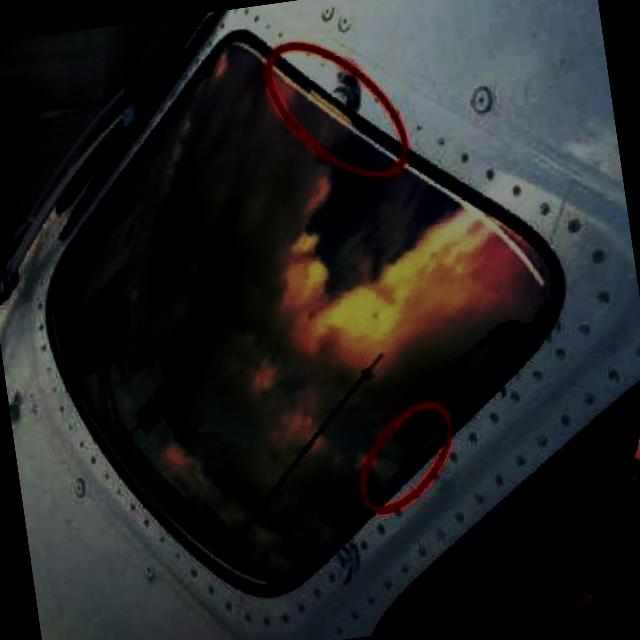crack: (335, 538, 364, 586)
